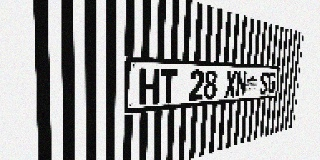2: (189, 70, 205, 101)
8: (203, 70, 218, 100)
G: (267, 72, 276, 94)
H: (139, 68, 160, 105)
N: (235, 71, 247, 97)
S: (259, 71, 269, 95)
T: (159, 69, 178, 104)
X: (224, 71, 237, 98)
